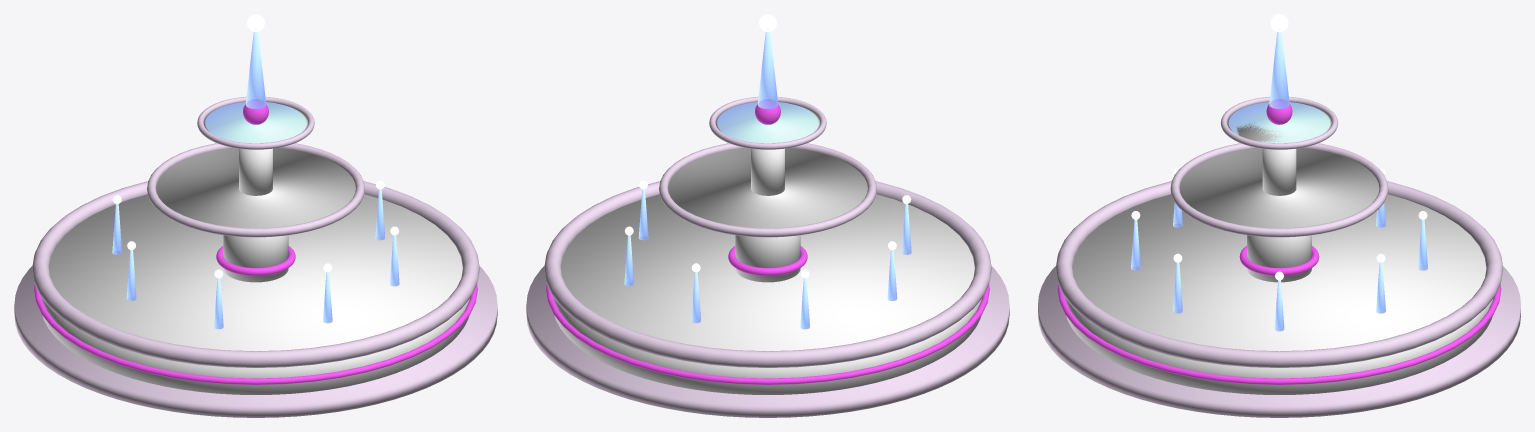
The model's file is fountain.glb.
The picture shows the model from 3 angles, left to right: view 1: azimuth 30°, elevation 25°; view 2: azimuth 150°, elevation 25°; view 3: azimuth 270°, elevation 25°; orthographic projection.
Parts seen in each view (by area): view 1: BasinWall, Step, BasinRim, Bowl2, Bowl2Rim, BasinTrim, Bowl3, WaterBowl3, Column1, Bowl3Rim, Column2, JetMain (+2 smaller); view 2: BasinWall, Step, BasinRim, Bowl2, Bowl2Rim, BasinTrim, Bowl3, WaterBowl3, Column1, Bowl3Rim, Column2, JetMain (+2 smaller); view 3: BasinWall, Step, BasinRim, Bowl2, Bowl2Rim, BasinTrim, Bowl3, WaterBowl3, Column1, Column2, Bowl3Rim, JetMain (+2 smaller).
Part boxes in pixels (x1,y1,x2,y2): BasinWall: [42, 194, 469, 394]; Step: [14, 266, 497, 417]; BasinRim: [32, 181, 479, 367]; Bowl2: [156, 147, 355, 228]; Bowl2Rim: [147, 143, 364, 237]; BasinTrim: [34, 284, 477, 384]; Bowl3: [204, 101, 307, 142]; WaterBowl3: [205, 102, 306, 143]; Column1: [223, 235, 288, 282]; Bowl3Rim: [197, 96, 314, 149]; Column2: [239, 148, 272, 195]; JetMain: [245, 32, 266, 108]; BasinWall: [554, 194, 981, 394]; Step: [526, 266, 1009, 417]; BasinRim: [544, 181, 991, 367]; Bowl2: [668, 147, 867, 228]; Bowl2Rim: [659, 143, 876, 237]; BasinTrim: [546, 284, 989, 384]; Bowl3: [716, 101, 819, 142]; WaterBowl3: [717, 102, 818, 143]; Column1: [735, 235, 800, 282]; Bowl3Rim: [709, 96, 826, 149]; Column2: [751, 148, 784, 195]; JetMain: [757, 32, 778, 108]; BasinWall: [1065, 194, 1493, 394]; Step: [1038, 266, 1520, 417]; BasinRim: [1055, 181, 1503, 367]; Bowl2: [1179, 147, 1379, 228]; Bowl2Rim: [1170, 143, 1388, 237]; BasinTrim: [1057, 284, 1501, 384]; Bowl3: [1227, 101, 1331, 143]; WaterBowl3: [1228, 102, 1330, 143]; Column1: [1247, 235, 1311, 282]; Column2: [1262, 148, 1296, 195]; Bowl3Rim: [1220, 96, 1338, 149]; JetMain: [1269, 32, 1289, 108].
Bounding box in the file's own units: 7.4 × 5.09 × 7.4.
